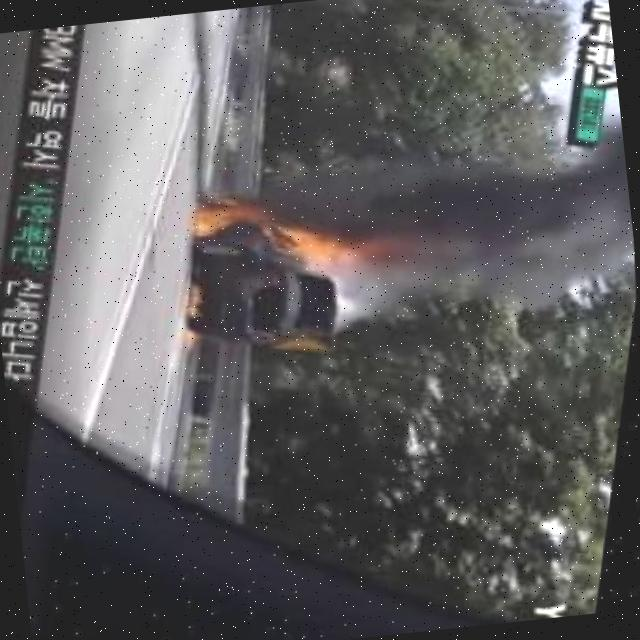fire: (190, 177, 389, 279), (160, 270, 222, 366), (264, 311, 344, 377)
